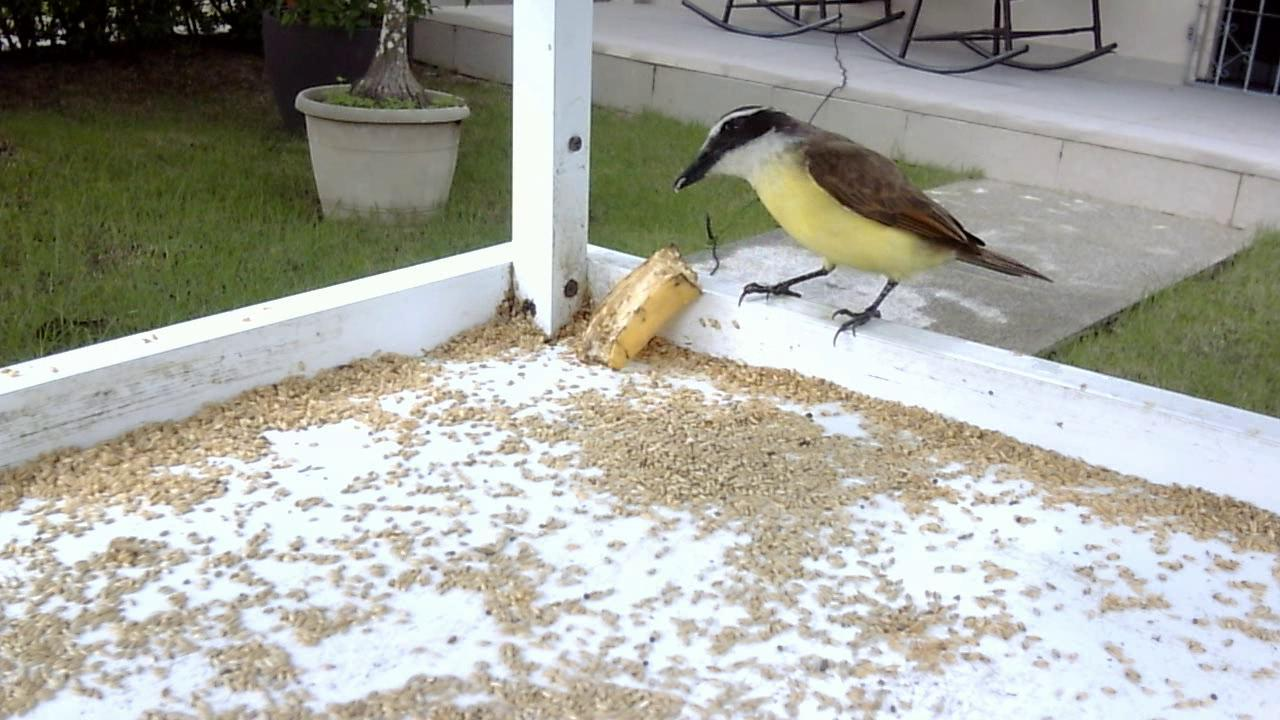bem_te_vi: (651, 85, 1062, 365)
